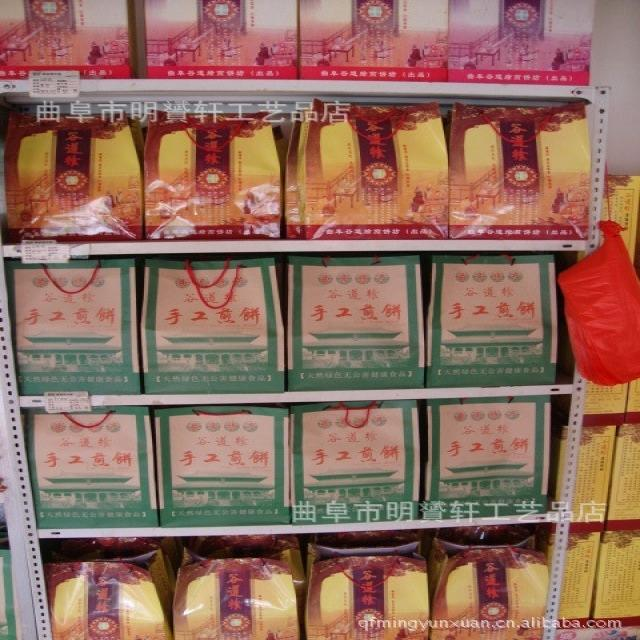box: (284, 96, 449, 239), (447, 101, 592, 239), (141, 258, 285, 393), (287, 255, 424, 392), (4, 111, 144, 244), (5, 259, 140, 396), (144, 108, 283, 239), (427, 255, 559, 387), (153, 406, 291, 527), (25, 406, 159, 529), (289, 400, 421, 524), (425, 395, 549, 519), (427, 536, 551, 639), (448, 0, 595, 86), (172, 548, 308, 640), (305, 540, 431, 639), (41, 548, 173, 640), (144, 0, 297, 79), (568, 426, 616, 534), (589, 529, 640, 628), (557, 532, 601, 628), (605, 423, 640, 530), (603, 174, 639, 265), (583, 382, 629, 427), (548, 420, 568, 511), (557, 625, 640, 640), (624, 379, 640, 423), (559, 251, 585, 272), (533, 522, 556, 544)
